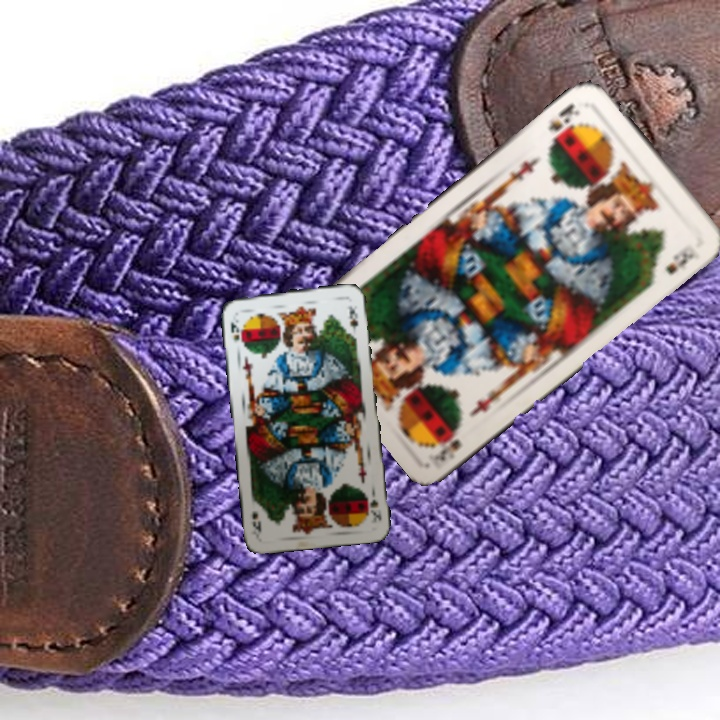SK: (543, 99, 583, 144), (431, 435, 464, 465), (366, 485, 384, 526), (227, 315, 242, 343)
